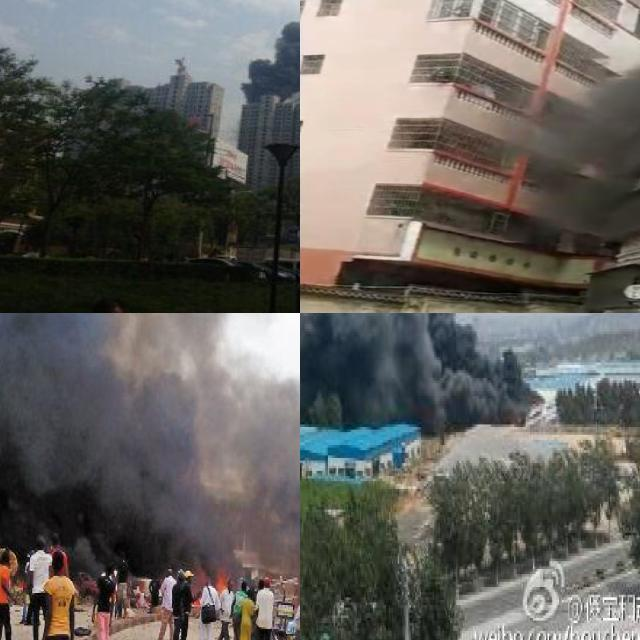fire: (214, 568, 228, 590)
smoke: (0, 313, 300, 585), (300, 313, 525, 426), (521, 33, 640, 232)
